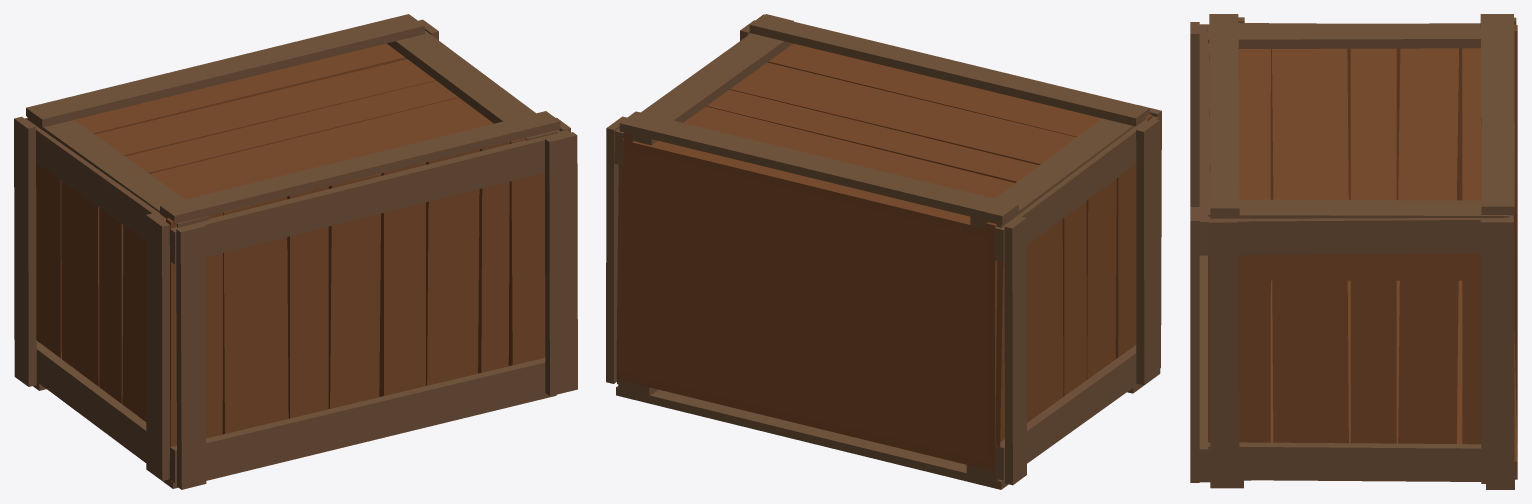
The picture shows the model from 3 angles, left to right: view 1: azimuth 30°, elevation 25°; view 2: azimuth 150°, elevation 25°; view 3: azimuth 270°, elevation 25°; orthographic projection. The views are drawn at different scales.
Parts seen in each view (by area): view 1: box 1 large; view 2: box 1 large; view 3: box 1 large.
Part boxes in pixels (box(x1,y1,x2,y2)): box 1 large: box(14, 14, 577, 489); box 1 large: box(606, 14, 1161, 489); box 1 large: box(1190, 14, 1517, 489).
Bounding box in the file's own units: 291 × 186 × 196.
